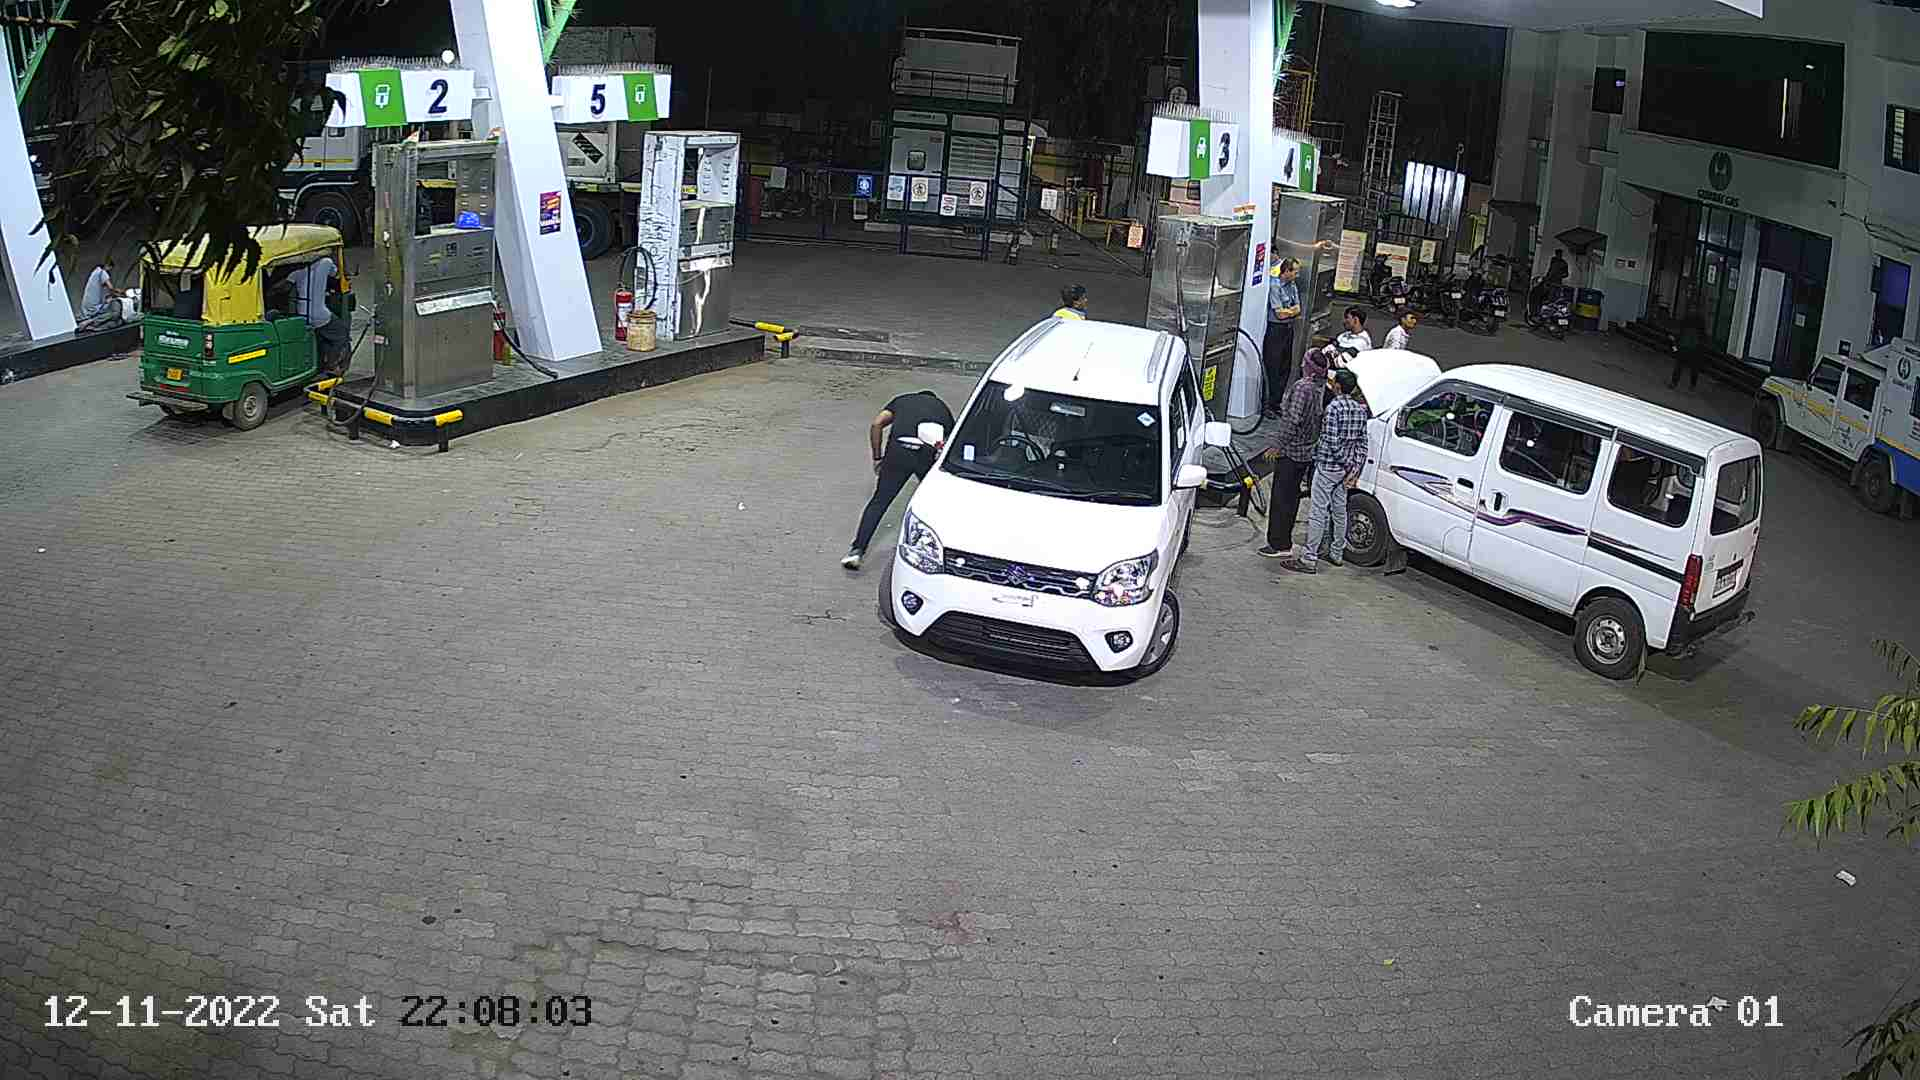Auto: (133, 202, 368, 442)
Bike: (1520, 237, 1584, 340), (1408, 247, 1476, 330), (1462, 241, 1518, 342), (1356, 240, 1416, 324)
Car: (1328, 338, 1774, 680), (876, 305, 1234, 700), (1754, 313, 1920, 531)
Others: (1047, 274, 1102, 334)
